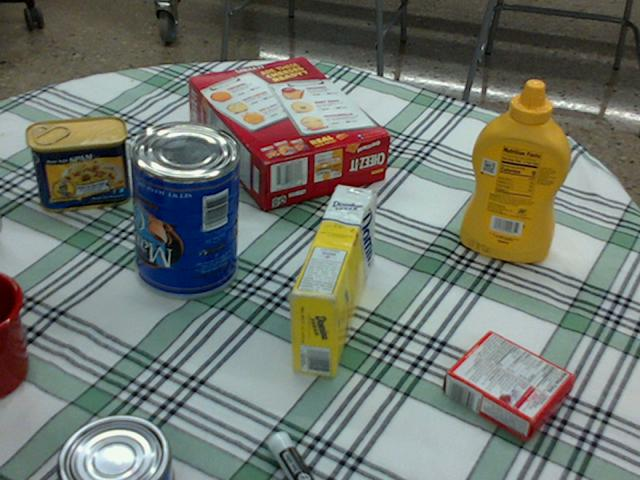cracker_box: (187, 58, 389, 206)
gelatin_box: (442, 331, 572, 442)
large_marker: (267, 432, 313, 479)
master_chef_can: (126, 120, 238, 299)
mug: (0, 269, 26, 392)
mustard_bottle: (459, 80, 569, 261)
potted_meat_can: (27, 116, 130, 212)
sugar_box: (289, 185, 374, 376)
tuna_fish_can: (53, 415, 169, 479)
